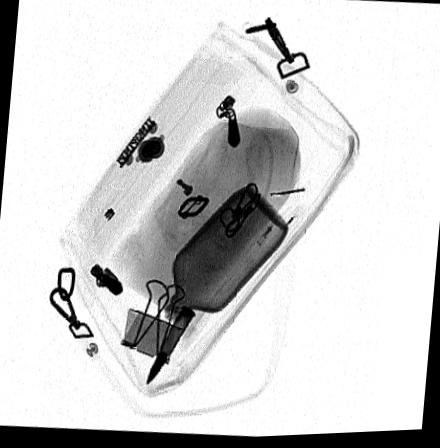Bullet: (145, 305, 196, 389)
